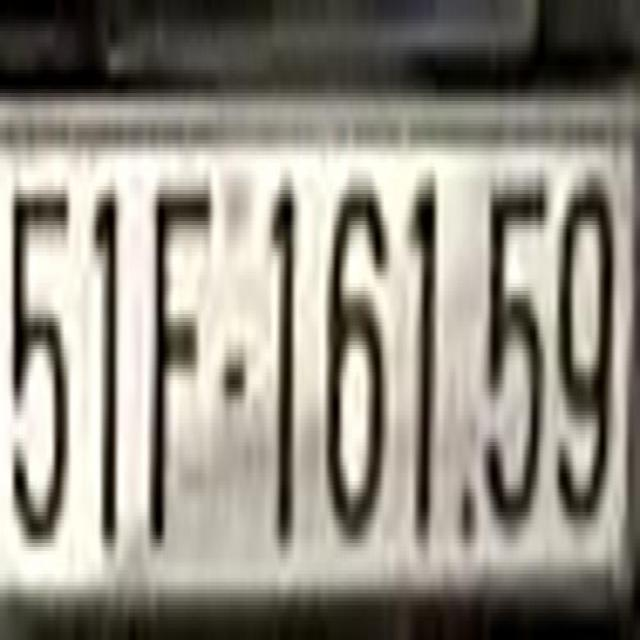1: (406, 159, 442, 543), (91, 174, 122, 550), (270, 144, 299, 543)
5: (482, 170, 547, 554), (9, 171, 68, 543)
6: (318, 148, 388, 528)
9: (553, 182, 613, 543)
F: (150, 163, 208, 574)
